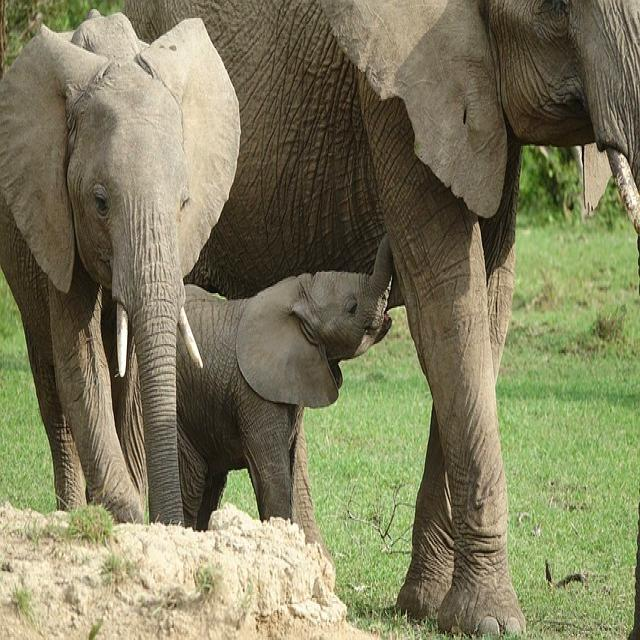FIL: (0, 3, 240, 542)
